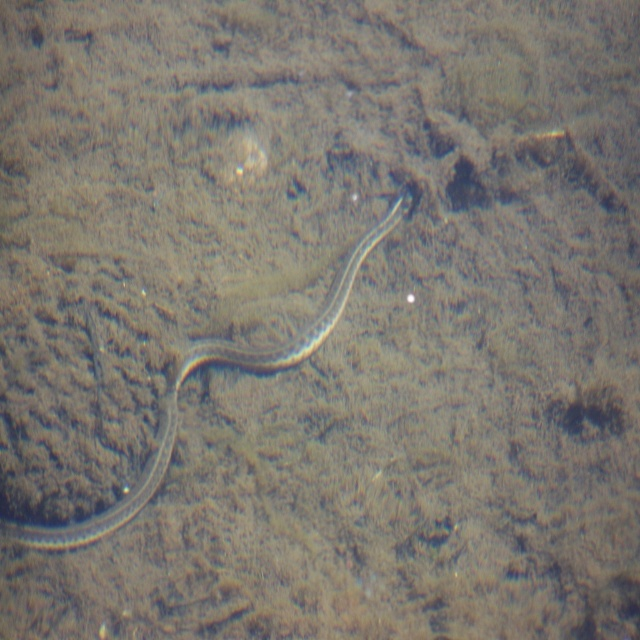Snake: (0, 187, 412, 549)
